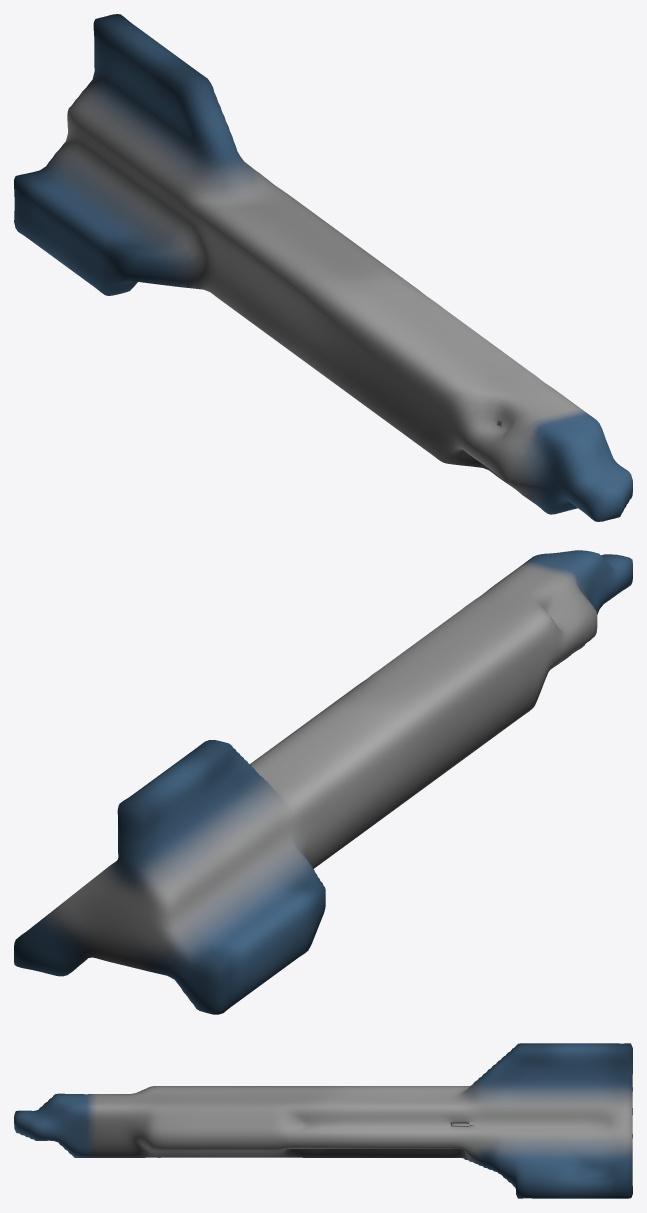
Rendered from boomer_cruise_missile.glb.
3 views of the same model, one above another, from view 1: azimuth 30°, elevation 25°; view 2: azimuth 150°, elevation 25°; view 3: azimuth 270°, elevation 25° (orthographic). The views are drawn at different scales.
Visible parts, largest first — view 1: boomer_cruise_missile; view 2: boomer_cruise_missile; view 3: boomer_cruise_missile.
Part boxes in pixels (box(x1,y1,x2,y2)): boomer_cruise_missile: box(14, 14, 632, 521); boomer_cruise_missile: box(14, 550, 632, 1014); boomer_cruise_missile: box(14, 1043, 632, 1198).
Bounding box in the file's own units: 0.6449 × 0.5588 × 2.63.
